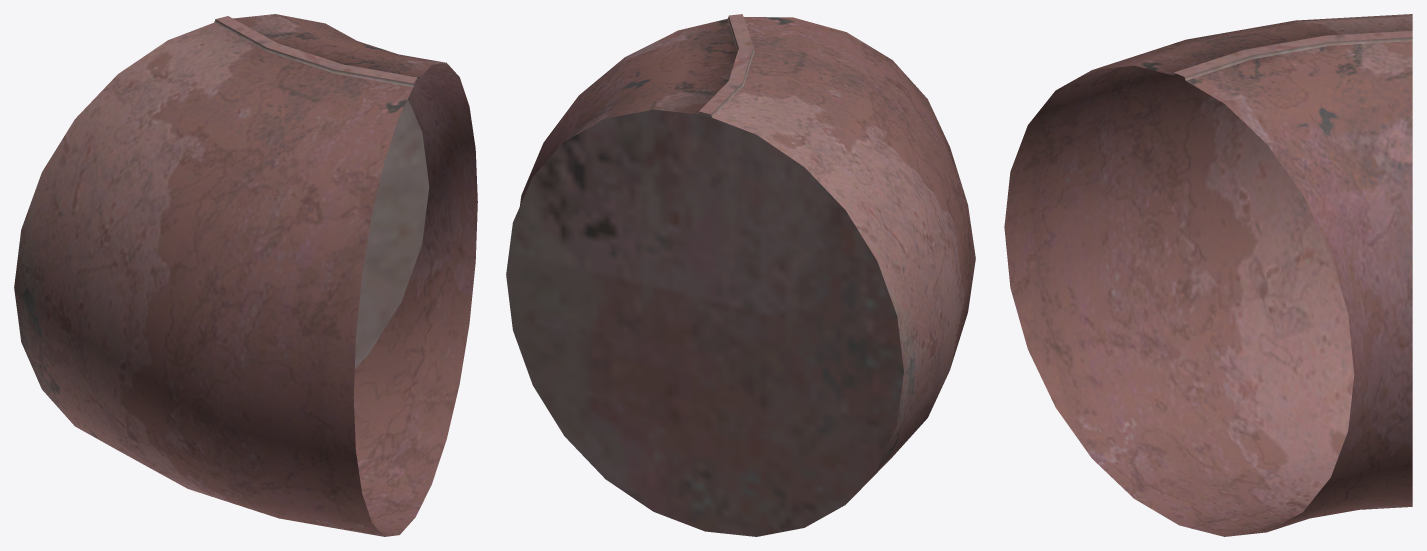
The model's file is paint_pipe_industrial001_curve01c.glb.
3 views of the same model, side by side, from view 1: azimuth 30°, elevation 25°; view 2: azimuth 150°, elevation 25°; view 3: azimuth 270°, elevation 25° (orthographic). The views are drawn at different scales.
Visible parts, largest first — view 1: paint_pipe_industrial001_curve01c; view 2: paint_pipe_industrial001_curve01c; view 3: paint_pipe_industrial001_curve01c.
Boxes of the visible parts, x1=… form: paint_pipe_industrial001_curve01c: x1=14, y1=14, x2=477, y2=536; paint_pipe_industrial001_curve01c: x1=506, y1=14, x2=975, y2=536; paint_pipe_industrial001_curve01c: x1=1004, y1=14, x2=1412, y2=536.
Bounding box in the file's own units: 3.84 × 3.68 × 3.02.
1 material, 1 textured.
